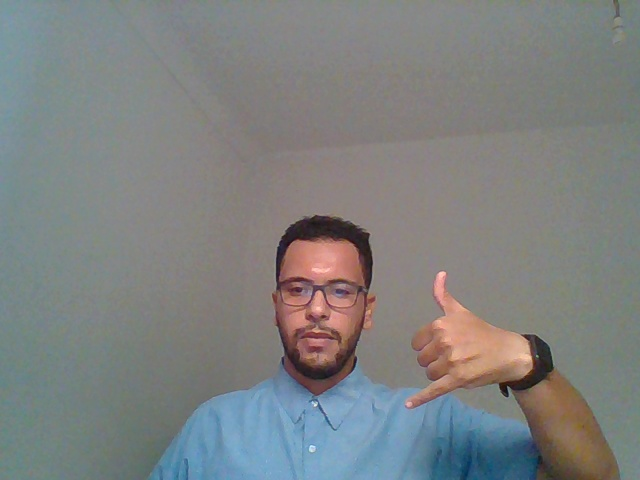callme: (387, 240, 531, 443)
